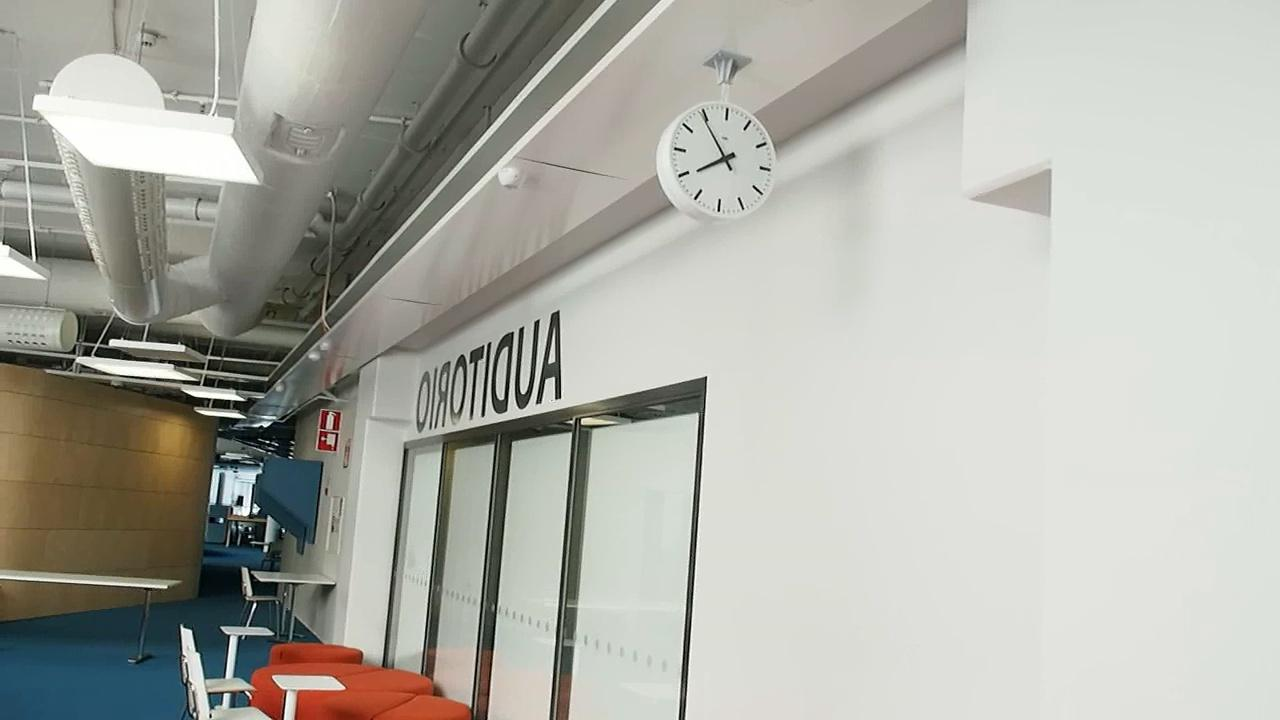clock: (656, 100, 784, 216)
